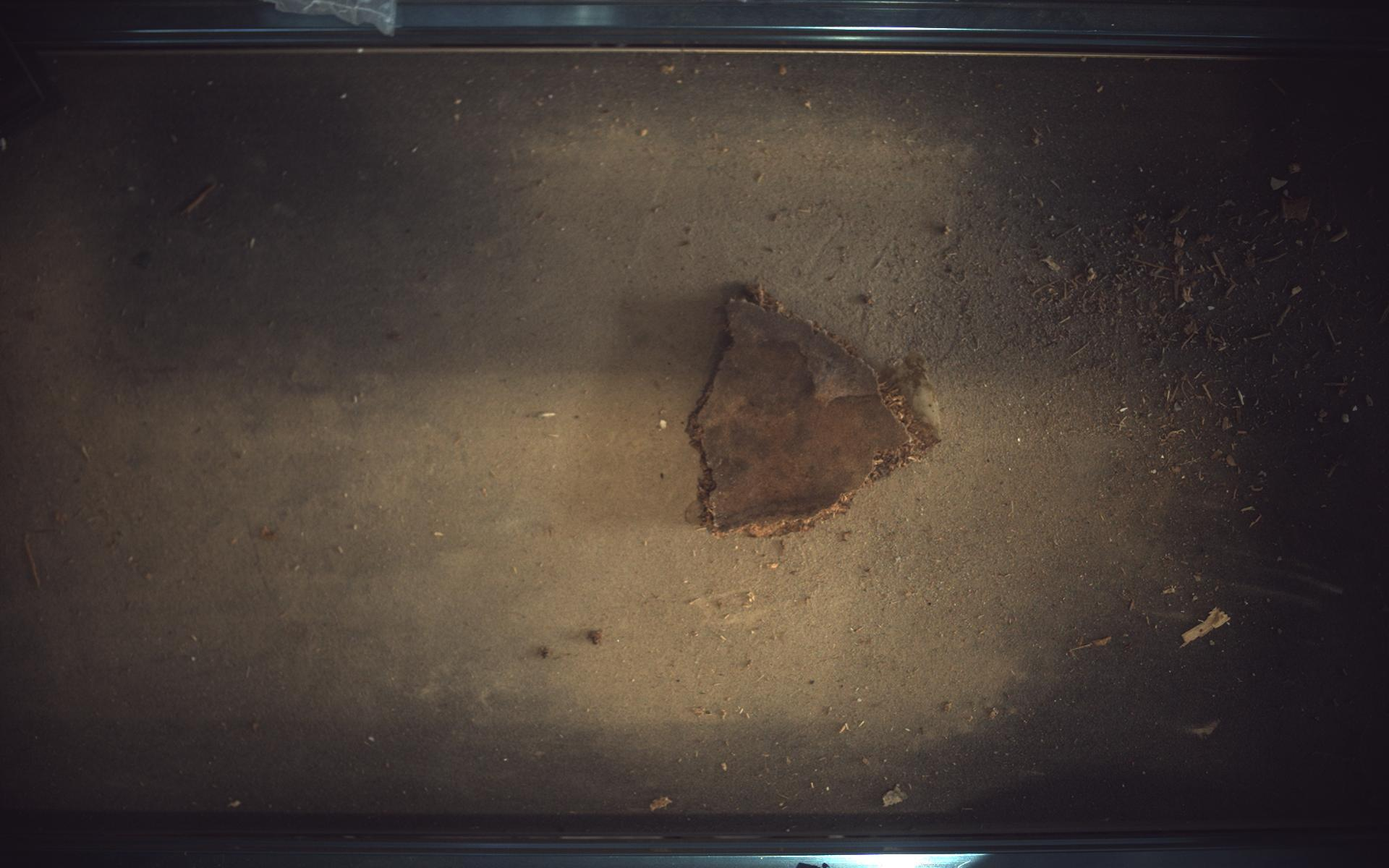wood: (689, 286, 943, 537)
